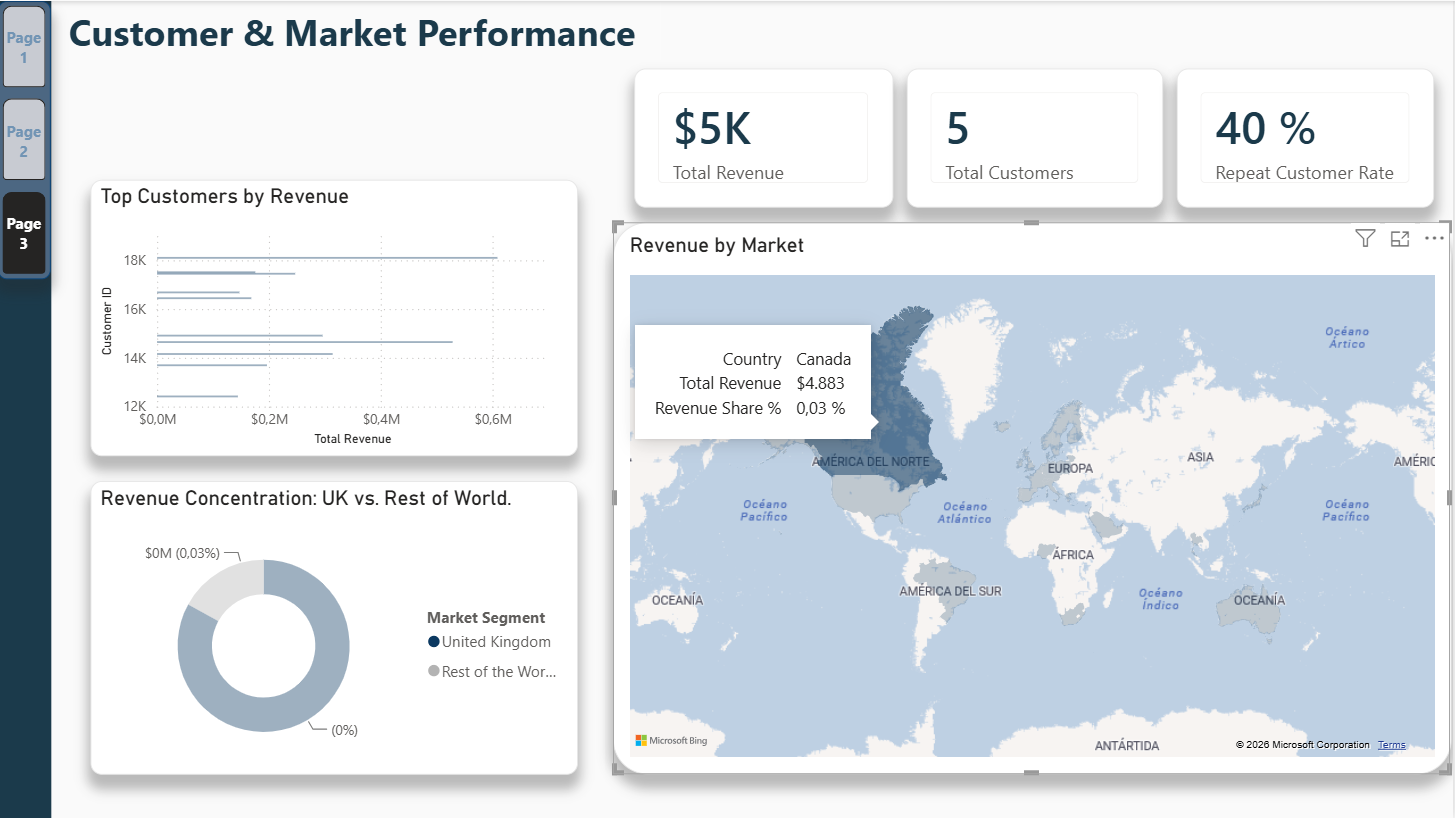

What the dashboard file says about the page in this screenshot:
{"tool":"powerbi","page":{"name":"Page 3","canvas":[1280,720],"ordinal":2},"visuals":[{"type":"textbox","box":[56.8,0,386.4,52.4],"z":0},{"type":"shape","box":[-0.7,0,48,720],"z":1000},{"type":"pageNavigator","box":[0,0,46.6,244.8],"z":2000},{"type":"filledMap","fields":{"Category":["online_retail_cleaned.Country"]},"box":[540.6,194.8,737.6,485.9],"z":3000},{"type":"cardVisual","fields":{"Data":["online_retail_cleaned.Total Revenue"]},"box":[543.2,26.4,227.6,130.8],"z":4000},{"type":"cardVisual","fields":{"Data":["online_retail_cleaned.Total Customers"]},"box":[787.3,27.5,229.8,130.8],"z":5000},{"type":"cardVisual","fields":{"Data":["online_retail_cleaned.Repeat Customer Rate"]},"box":[1035.8,26.4,234.2,130.8],"z":6000},{"type":"clusteredBarChart","fields":{"Category":["online_retail_cleaned.Customer ID"],"Y":["online_retail_cleaned.Total Revenue"]},"box":[81,157.6,429,243],"z":7000},{"type":"donutChart","fields":{"Category":["online_retail_cleaned.Market Segment"],"Y":["online_retail_cleaned.Total Revenue"]},"box":[81,422.4,429,258.3],"z":8000}]}

Visuals, with their boxes on the page's 1280x720 design canvas (x1, y1, x2, y2). These are canvas units, not pixel positions in the 1455x818 screenshot, which may show the page scaled, cropped or inside an application window:
textbox: [left=57, top=0, right=443, bottom=52]
shape: [left=-1, top=0, right=47, bottom=720]
pageNavigator: [left=0, top=0, right=47, bottom=245]
filledMap - online_retail_cleaned.Country: [left=541, top=195, right=1278, bottom=681]
cardVisual - online_retail_cleaned.Total Revenue: [left=543, top=26, right=771, bottom=157]
cardVisual - online_retail_cleaned.Total Customers: [left=787, top=28, right=1017, bottom=158]
cardVisual - online_retail_cleaned.Repeat Customer Rate: [left=1036, top=26, right=1270, bottom=157]
clusteredBarChart - online_retail_cleaned.Customer ID x online_retail_cleaned.Total Revenue: [left=81, top=158, right=510, bottom=401]
donutChart - online_retail_cleaned.Market Segment x online_retail_cleaned.Total Revenue: [left=81, top=422, right=510, bottom=681]
